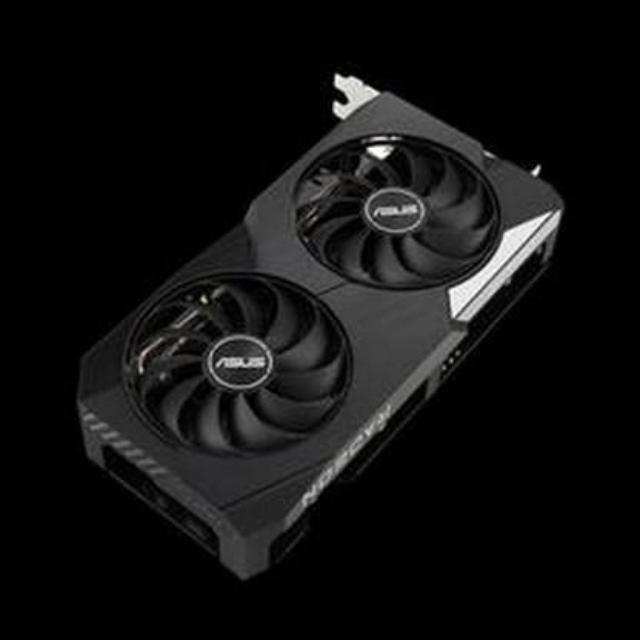GPU: (72, 72, 576, 578)
